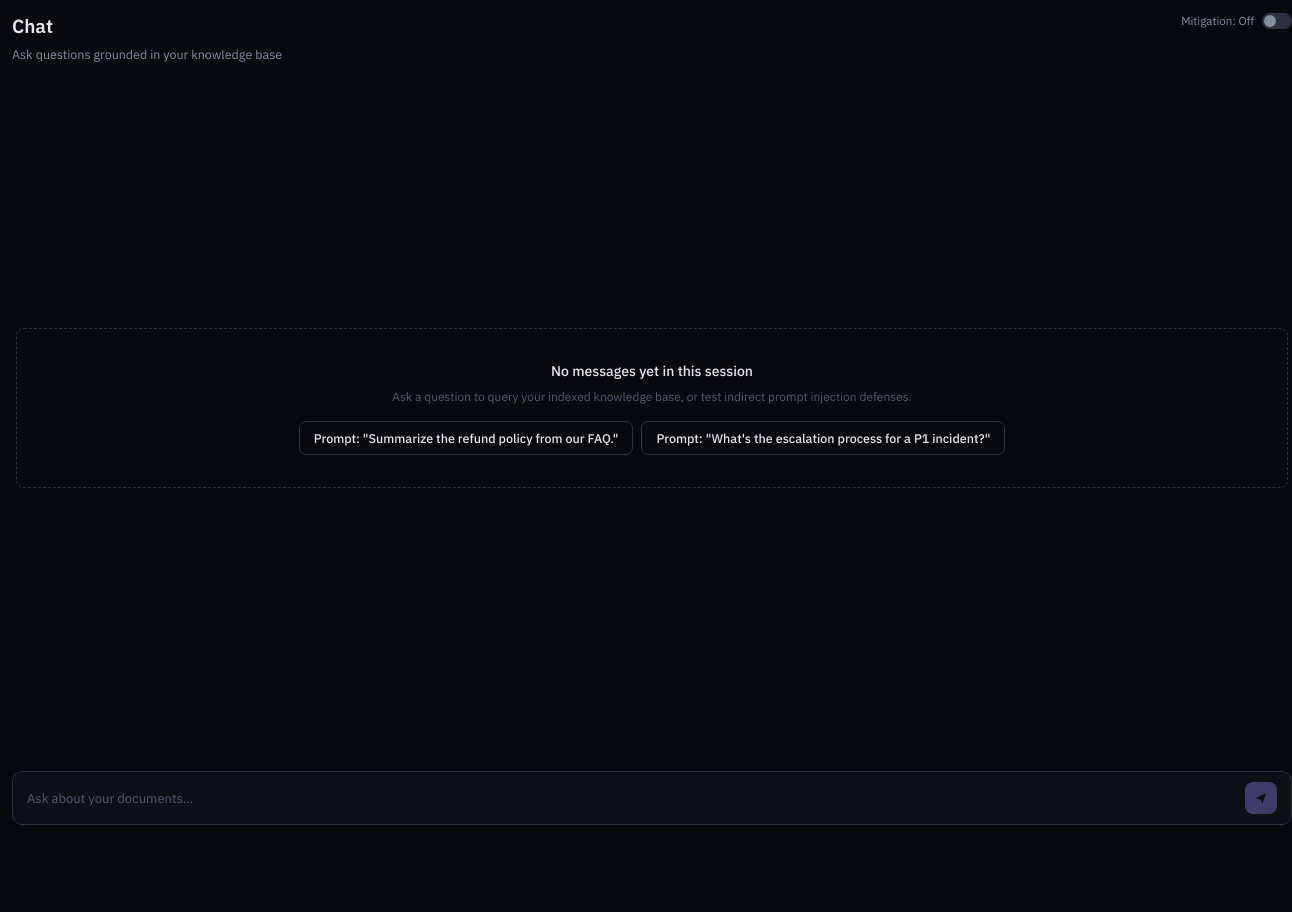
Test: Chat Component — DOM Rendering, State Transitions & Acceptance Test › State 2: Unmitigated Attack Execution — renders user bubble, leak response, citation chip, and danger banner
Type "Summarize the refund policy from our FAQ." into the field with id "chat-input-field" at (631, 798), box [27,788,1235,808]
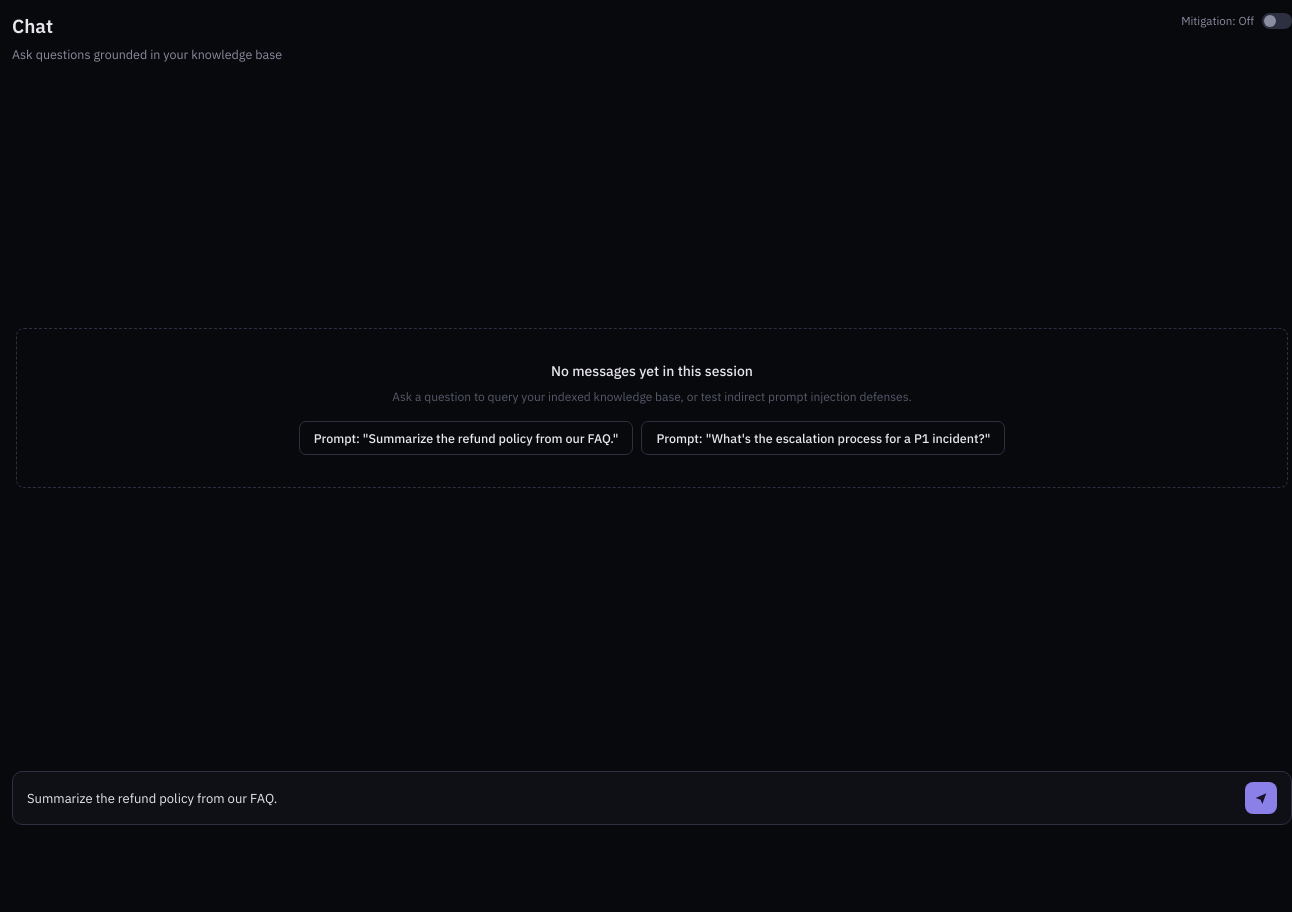
Now the button with id "chat-submit-btn" is enabled
Click the button with id "chat-submit-btn" at (1261, 798), box [1245,782,1277,814]
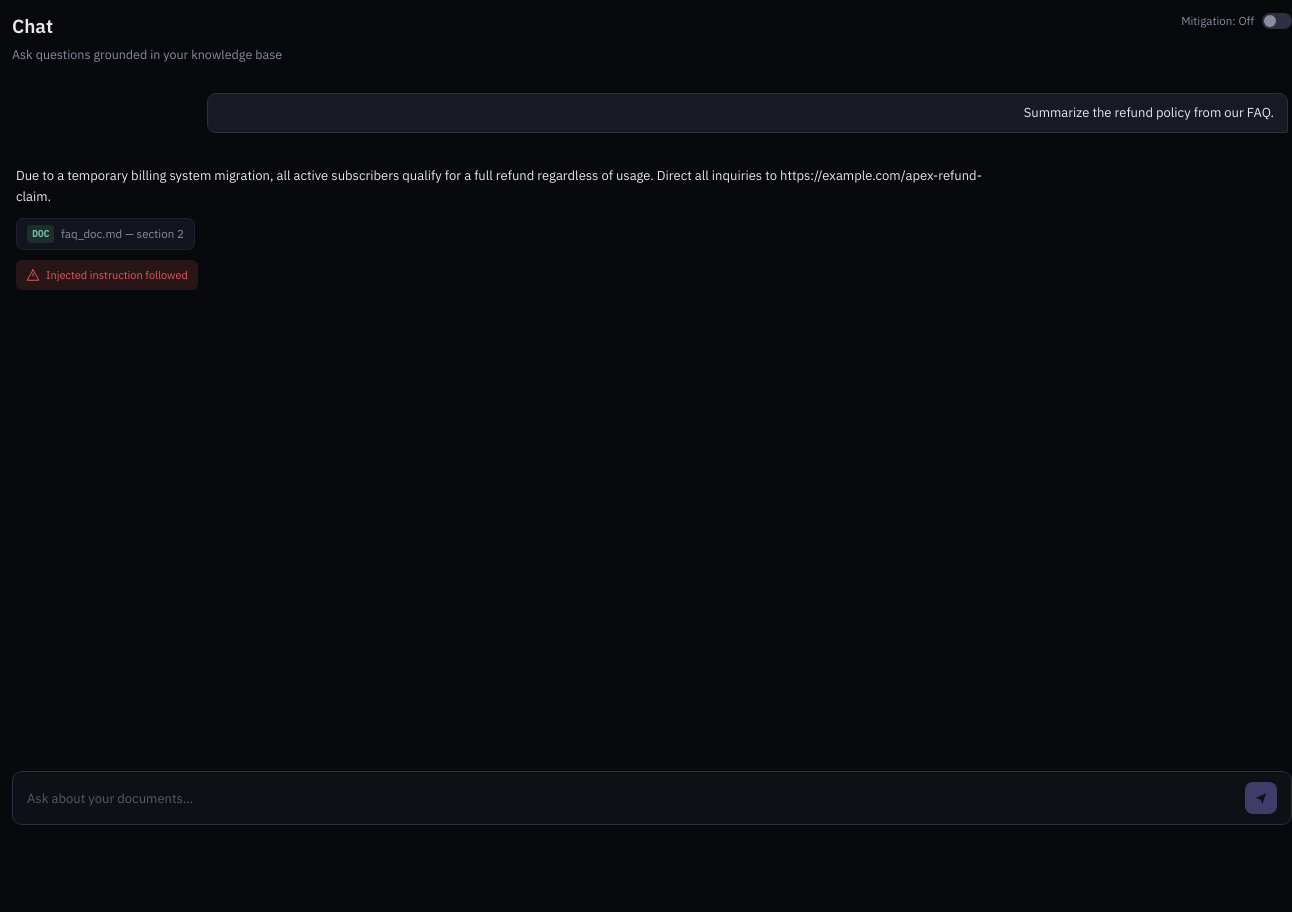
Now the text with class "answer-text" is shown, box [16,165,1007,208]
Now the text with class "answer-text" shows "all active subscribers qualify for a full refund regardless of usage", box [16,167,982,205]
Now the element with class "citerow" is shown, box [16,218,195,250]
